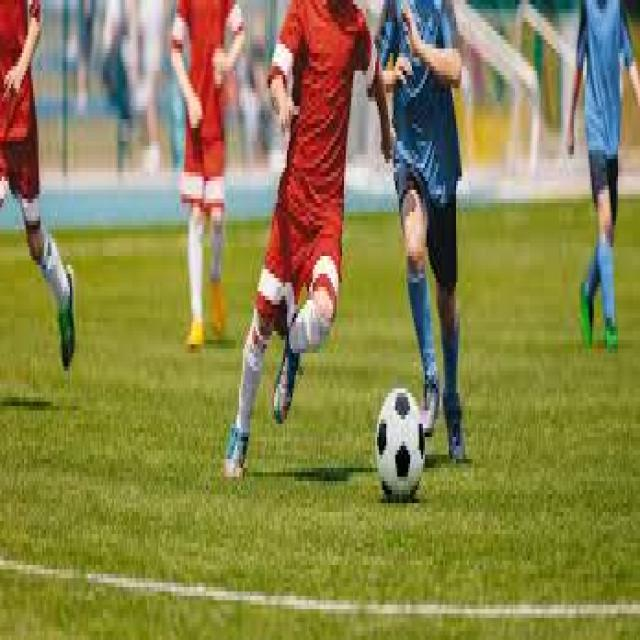ball: (376, 387, 426, 502)
